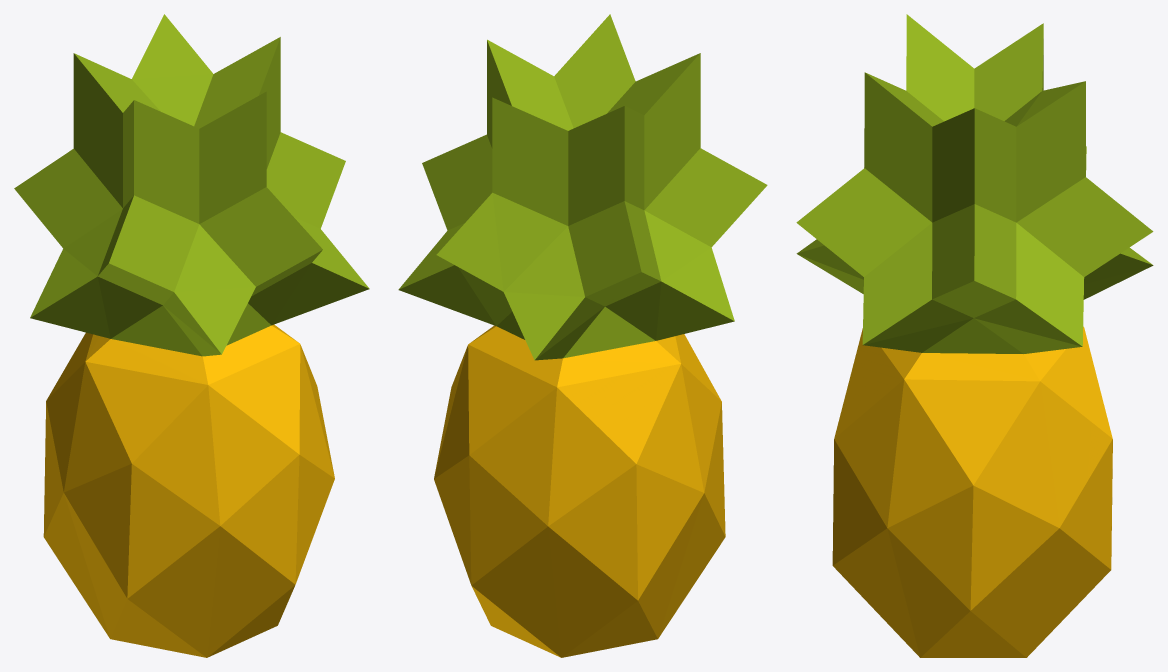
File: Prop_Fruit_Pineapple_01.fbx
The picture shows the model from 3 angles, left to right: view 1: azimuth 30°, elevation 25°; view 2: azimuth 150°, elevation 25°; view 3: azimuth 270°, elevation 25°; orthographic projection.
Visible parts, largest first — view 1: Prop_Fruit_Pineapple_01; view 2: Prop_Fruit_Pineapple_01; view 3: Prop_Fruit_Pineapple_01.
Part boxes in pixels (x1=…): Prop_Fruit_Pineapple_01: x1=14, y1=14, x2=369, y2=657; Prop_Fruit_Pineapple_01: x1=398, y1=14, x2=767, y2=657; Prop_Fruit_Pineapple_01: x1=796, y1=14, x2=1153, y2=657.
Bounding box in the file's own units: 9.95 × 17.68 × 9.73.
